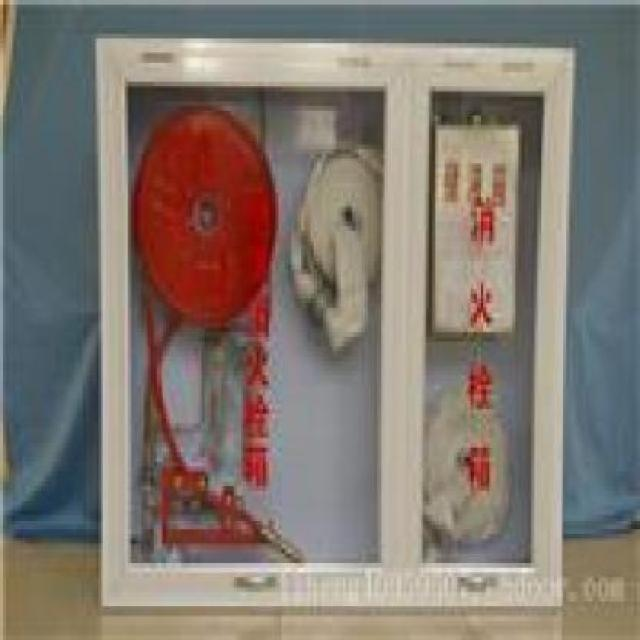firehydrant: (92, 31, 578, 621)
